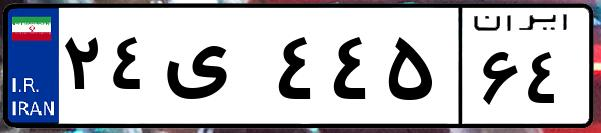2: (57, 26, 110, 100)
4: (270, 28, 330, 110), (330, 28, 385, 110), (525, 38, 570, 115), (110, 28, 158, 98)
5: (385, 28, 445, 110)
6: (475, 38, 525, 113)
ی: (158, 20, 270, 120)
